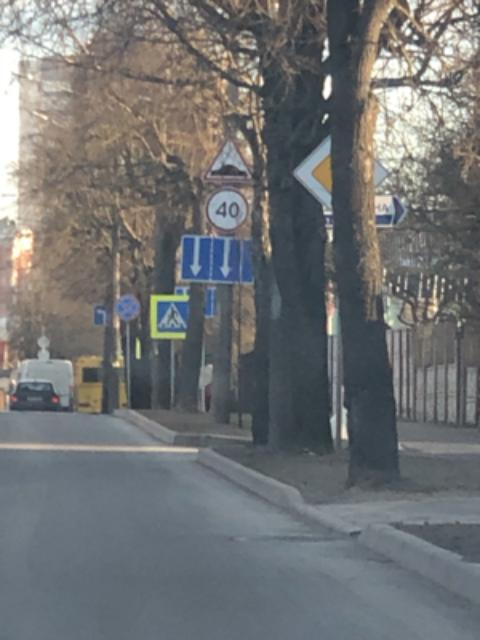crosswalk-sign: (149, 292, 192, 340)
